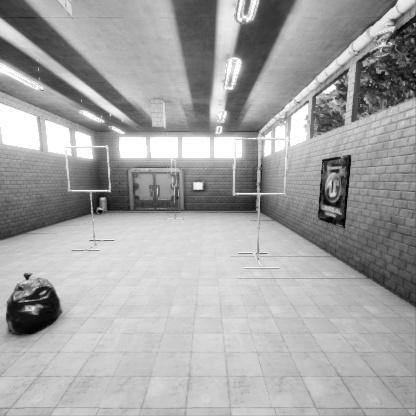gate: (235, 223, 294, 281), (68, 226, 116, 271), (171, 230, 176, 258)
